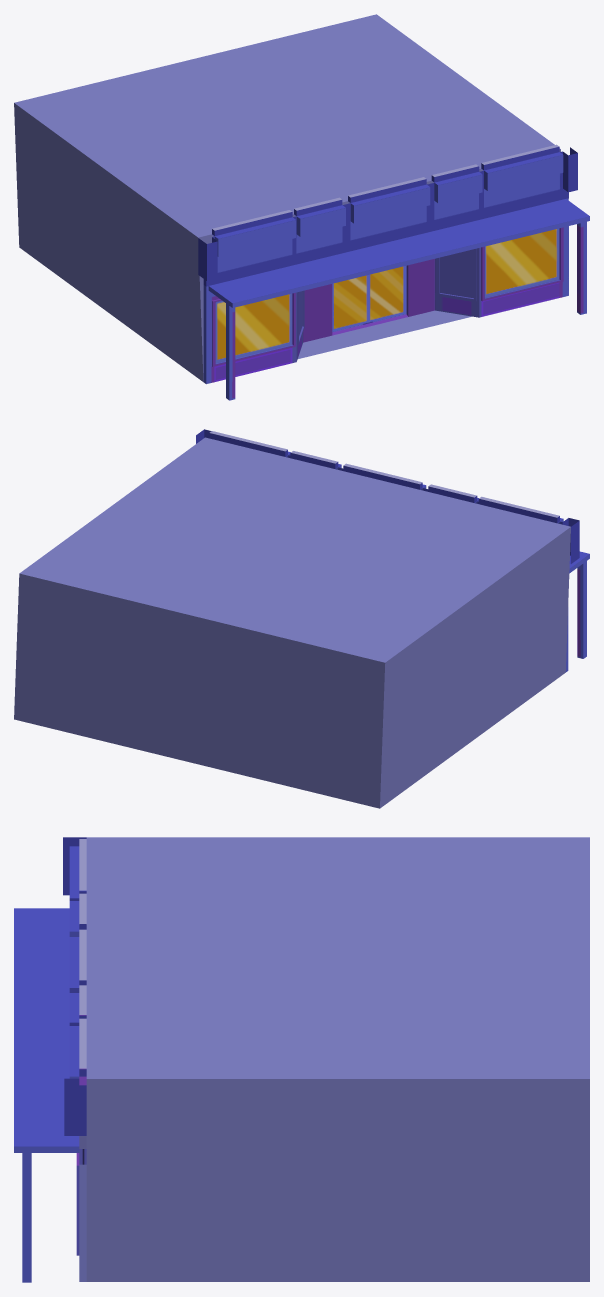
Rendered from Adam_Building_2.fbx.
The picture shows the model from 3 angles, top to bottom: view 1: azimuth 30°, elevation 25°; view 2: azimuth 150°, elevation 25°; view 3: azimuth 270°, elevation 25°; orthographic projection. The views are drawn at different scales.
Parts seen in each view (by area): view 1: Adam_Building_2:Bldg_Combo_3:Inside_Building2, Adam_Building_2:Bldg_Combo_3:JamQuestBuilding_Front; view 2: Adam_Building_2:Bldg_Combo_3:Inside_Building2, Adam_Building_2:Bldg_Combo_3:JamQuestBuilding_Front; view 3: Adam_Building_2:Bldg_Combo_3:Inside_Building2, Adam_Building_2:Bldg_Combo_3:JamQuestBuilding_Front.
Part boxes in pixels (box(x1,y1,x2,y2)): Adam_Building_2:Bldg_Combo_3:Inside_Building2: box(14, 14, 560, 381); Adam_Building_2:Bldg_Combo_3:JamQuestBuilding_Front: box(198, 144, 589, 400); Adam_Building_2:Bldg_Combo_3:Inside_Building2: box(14, 437, 570, 808); Adam_Building_2:Bldg_Combo_3:JamQuestBuilding_Front: box(196, 429, 589, 672); Adam_Building_2:Bldg_Combo_3:Inside_Building2: box(86, 837, 589, 1281); Adam_Building_2:Bldg_Combo_3:JamQuestBuilding_Front: box(14, 837, 86, 1282).
Bounding box in the file's own units: 9.5 × 3.74 × 9.33.
Materials: 2 (1 with a texture image).
